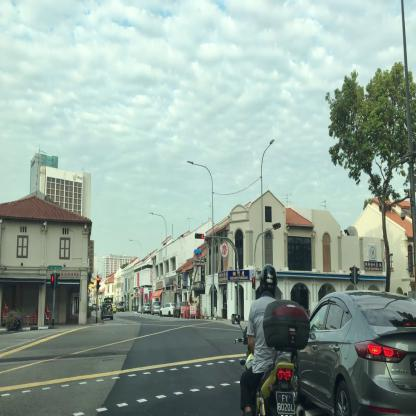red_traffic_light: (194, 233, 204, 238), (96, 276, 98, 288)
